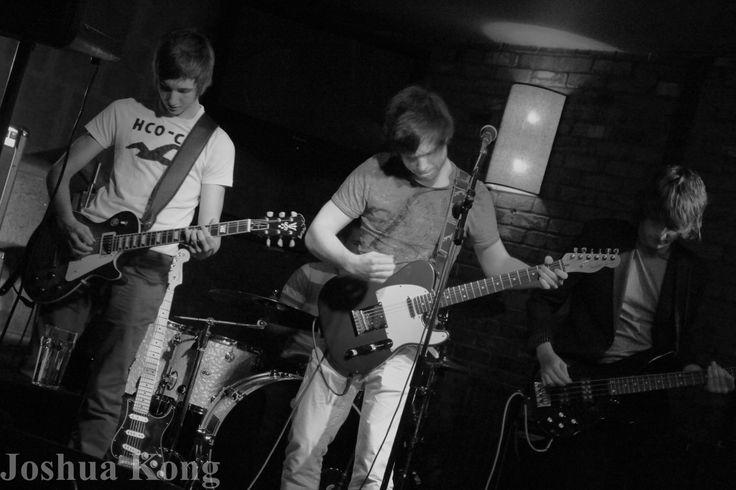acousticguitar: (317, 247, 625, 380), (20, 210, 313, 307), (523, 347, 733, 448)
